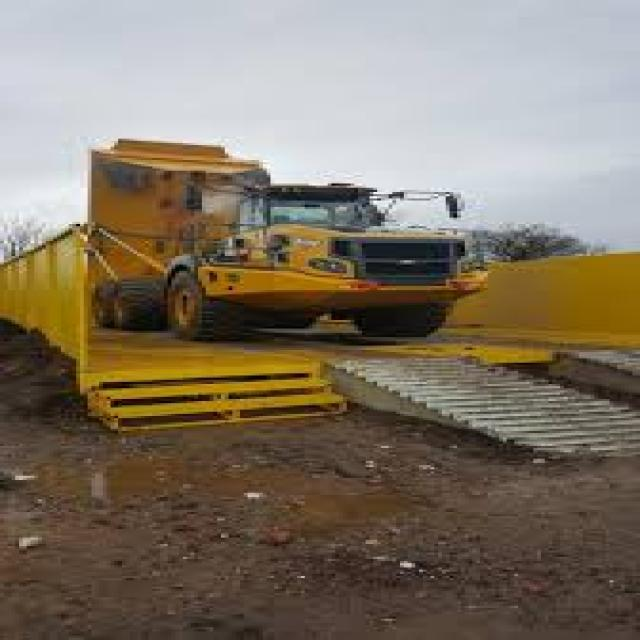dump_truck: (53, 124, 484, 356)
